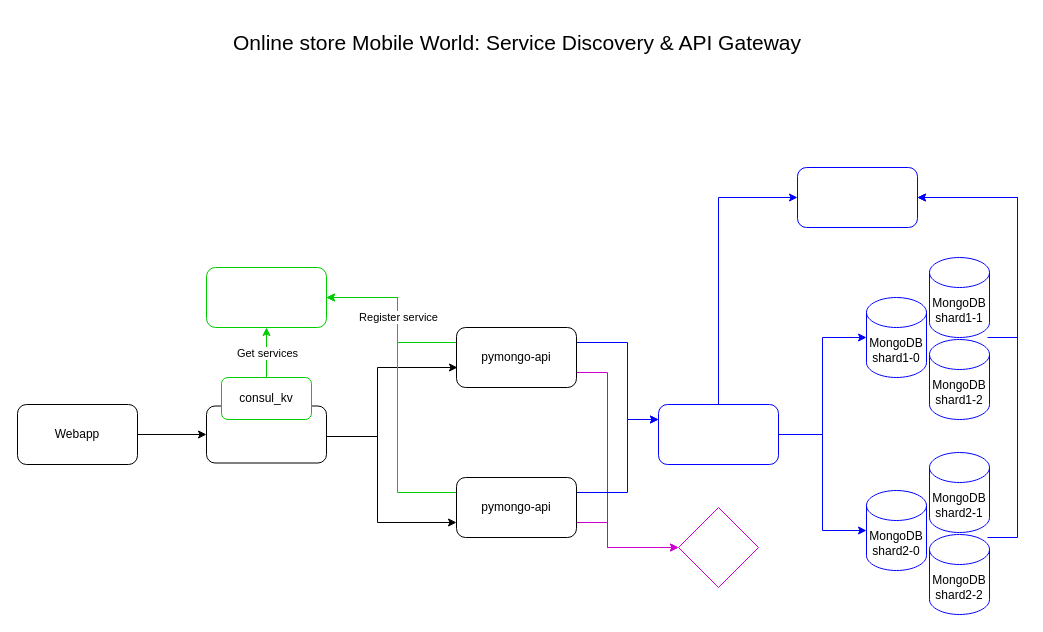
The diagram is 1043 pixels wide and 632 high, and some of its shapes have lost their labels. The shapes that lost their labels are listed below. From the top down, each one's centre as x and y in pixels, then its label:
At pixel 857 197: "configSrv".
At pixel 266 297: "Consul".
At pixel 266 434: "APIXIS Gateway".
At pixel 718 434: "Mongos routers".
At pixel 718 547: "Redis cache".
